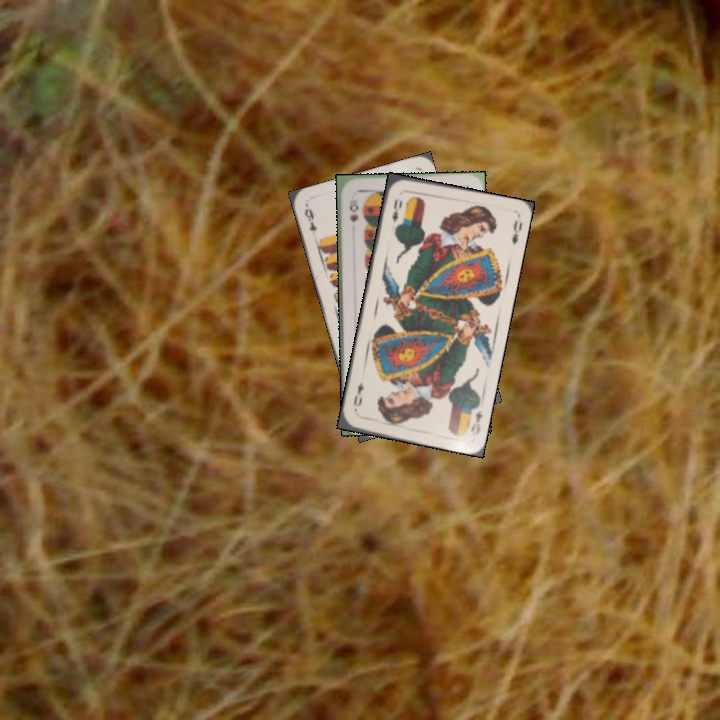E9: (300, 202, 319, 234)
EO: (467, 406, 485, 438), (388, 194, 405, 224)
S8: (345, 195, 360, 225)
